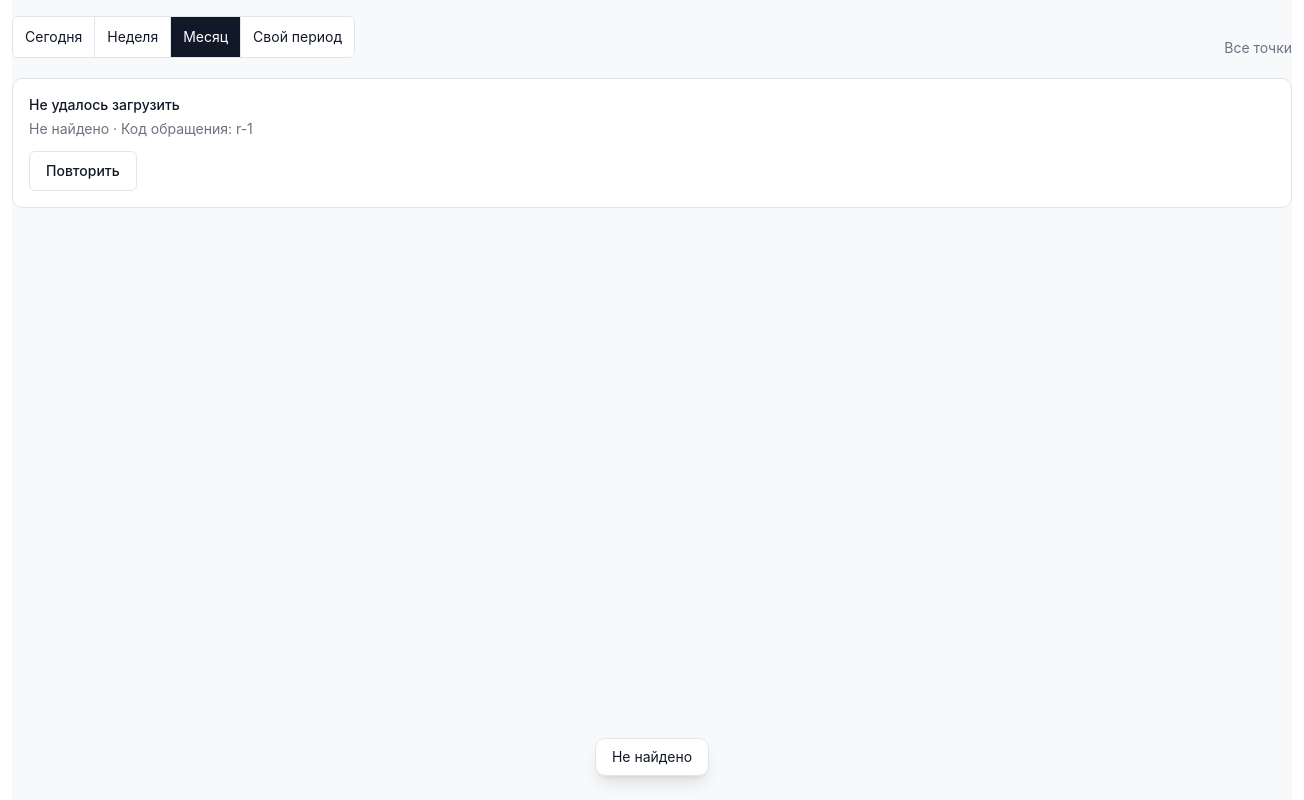
Test case: D-01 дашборд директора › ошибка сервера: баннер без внутренних деталей и «Повторить»
Expected: the message "Повторить" shows "Не удалось загрузить", [29,96,180,113]
Expected: the message "Повторить" does not show "SQLSTATE", [12,78,1292,208]
What coordinates should you click on to do the following:
click the button "Повторить"
I would click on:
 (83, 171)
Its box is [29,151,137,191].
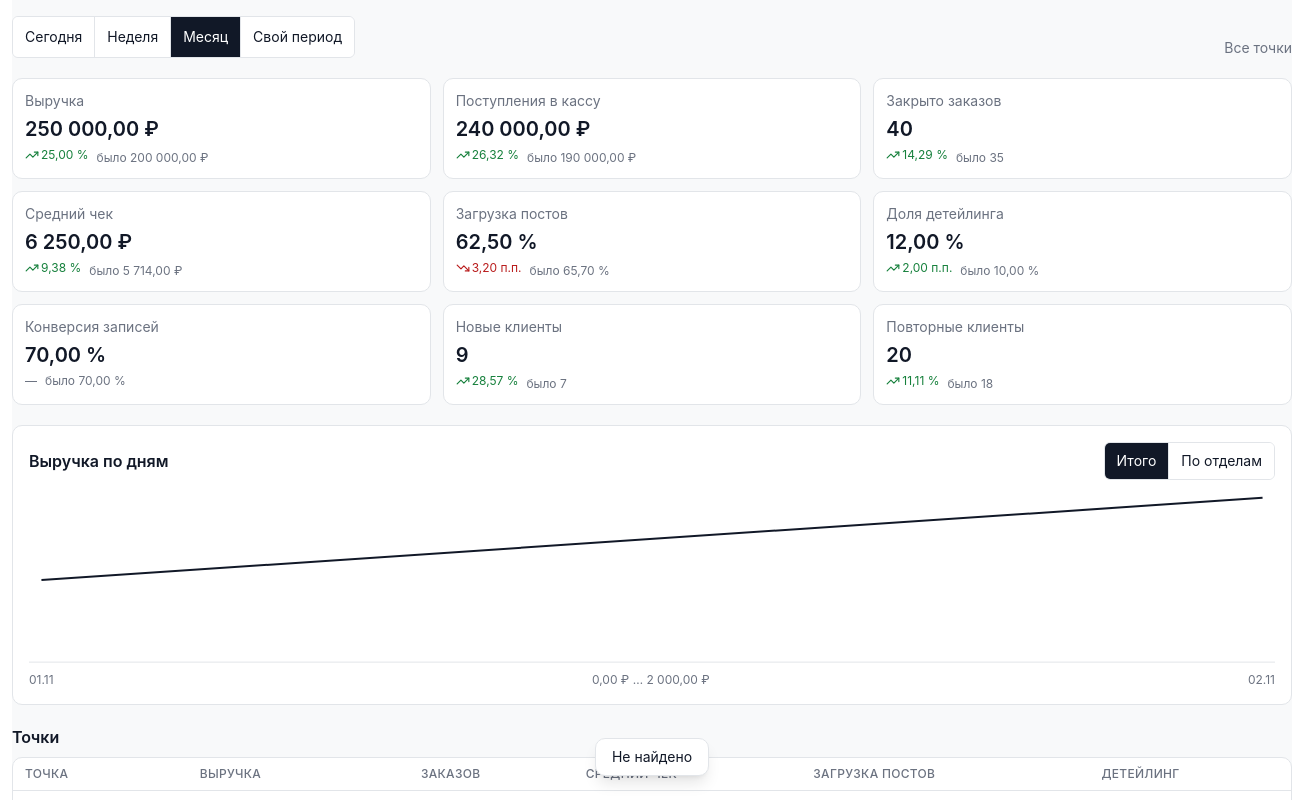
Expected: the link "Выручка 250 000,00 ₽ 25,00 % было 200 000,00 ₽" is shown, [12,78,431,179]
